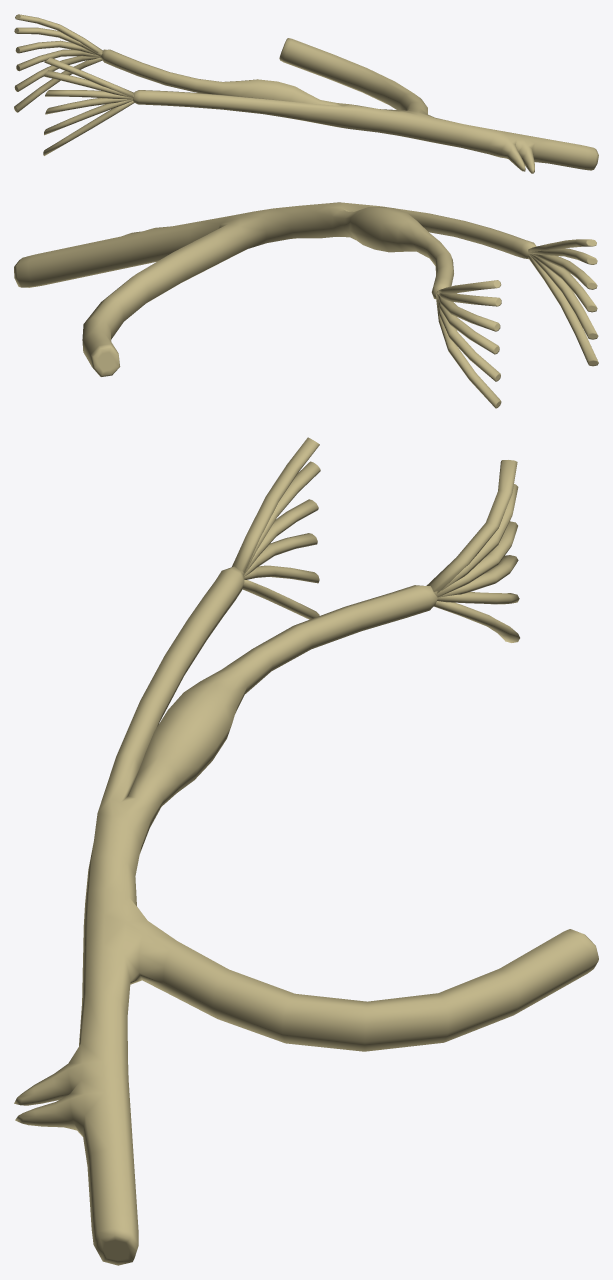
File: Nerves_R11.FBX
The picture shows the model from 3 angles, top to bottom: view 1: azimuth 30°, elevation 25°; view 2: azimuth 150°, elevation 25°; view 3: azimuth 270°, elevation 25°; orthographic projection. The views are drawn at different scales.
Parts seen in each view (by area): view 1: Nerves_R11; view 2: Nerves_R11; view 3: Nerves_R11.
Boxes of the visible parts, left/top/right/bottom form: Nerves_R11: left=14, top=14, right=598, bottom=173; Nerves_R11: left=14, top=202, right=598, bottom=408; Nerves_R11: left=14, top=437, right=598, bottom=1265.
Size of the model in its own units: 0.0326 by 0.012 by 0.0172.
